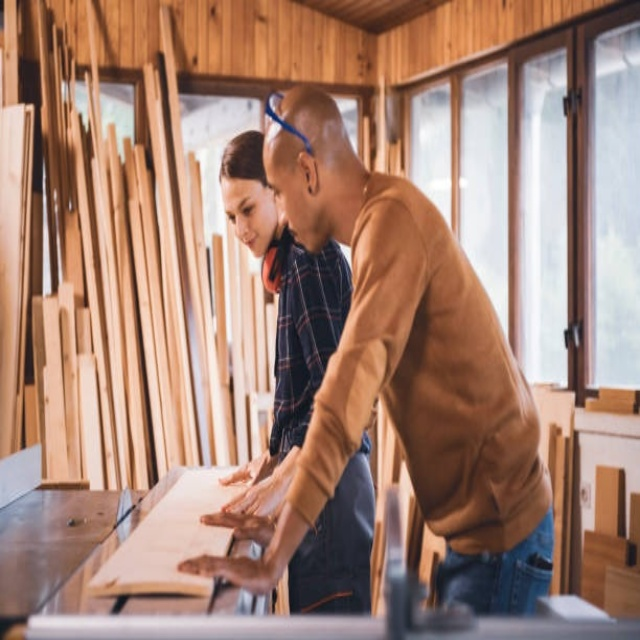Sin_gafas: (224, 190, 260, 226), (265, 169, 298, 205)
Sin_guantes: (177, 544, 274, 601), (197, 500, 271, 549)
Sin_mascara: (280, 218, 311, 251), (232, 232, 262, 256)
